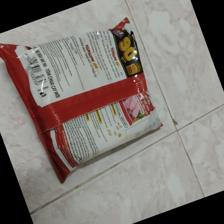Kokomi: (1, 15, 167, 183)
